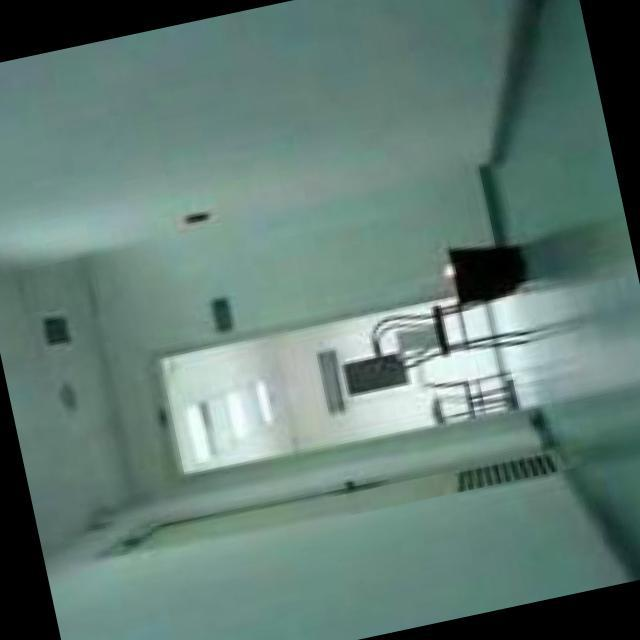Fire: (439, 255, 456, 283)
